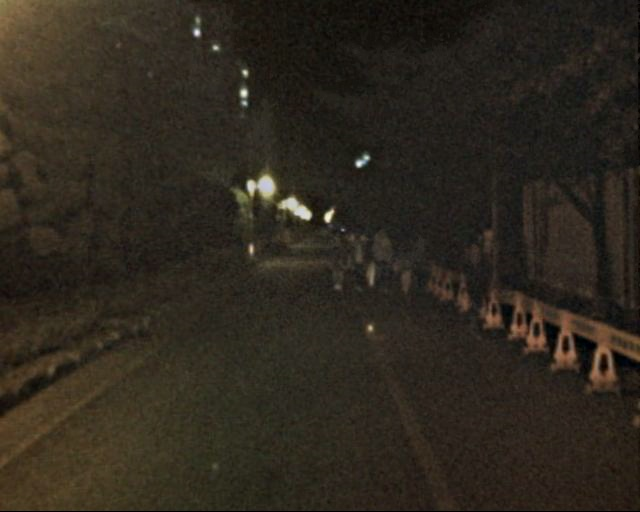person: (456, 240, 495, 335), (368, 223, 396, 291), (323, 228, 348, 289), (408, 229, 433, 289), (347, 232, 370, 288), (395, 238, 418, 294), (360, 233, 379, 280)
